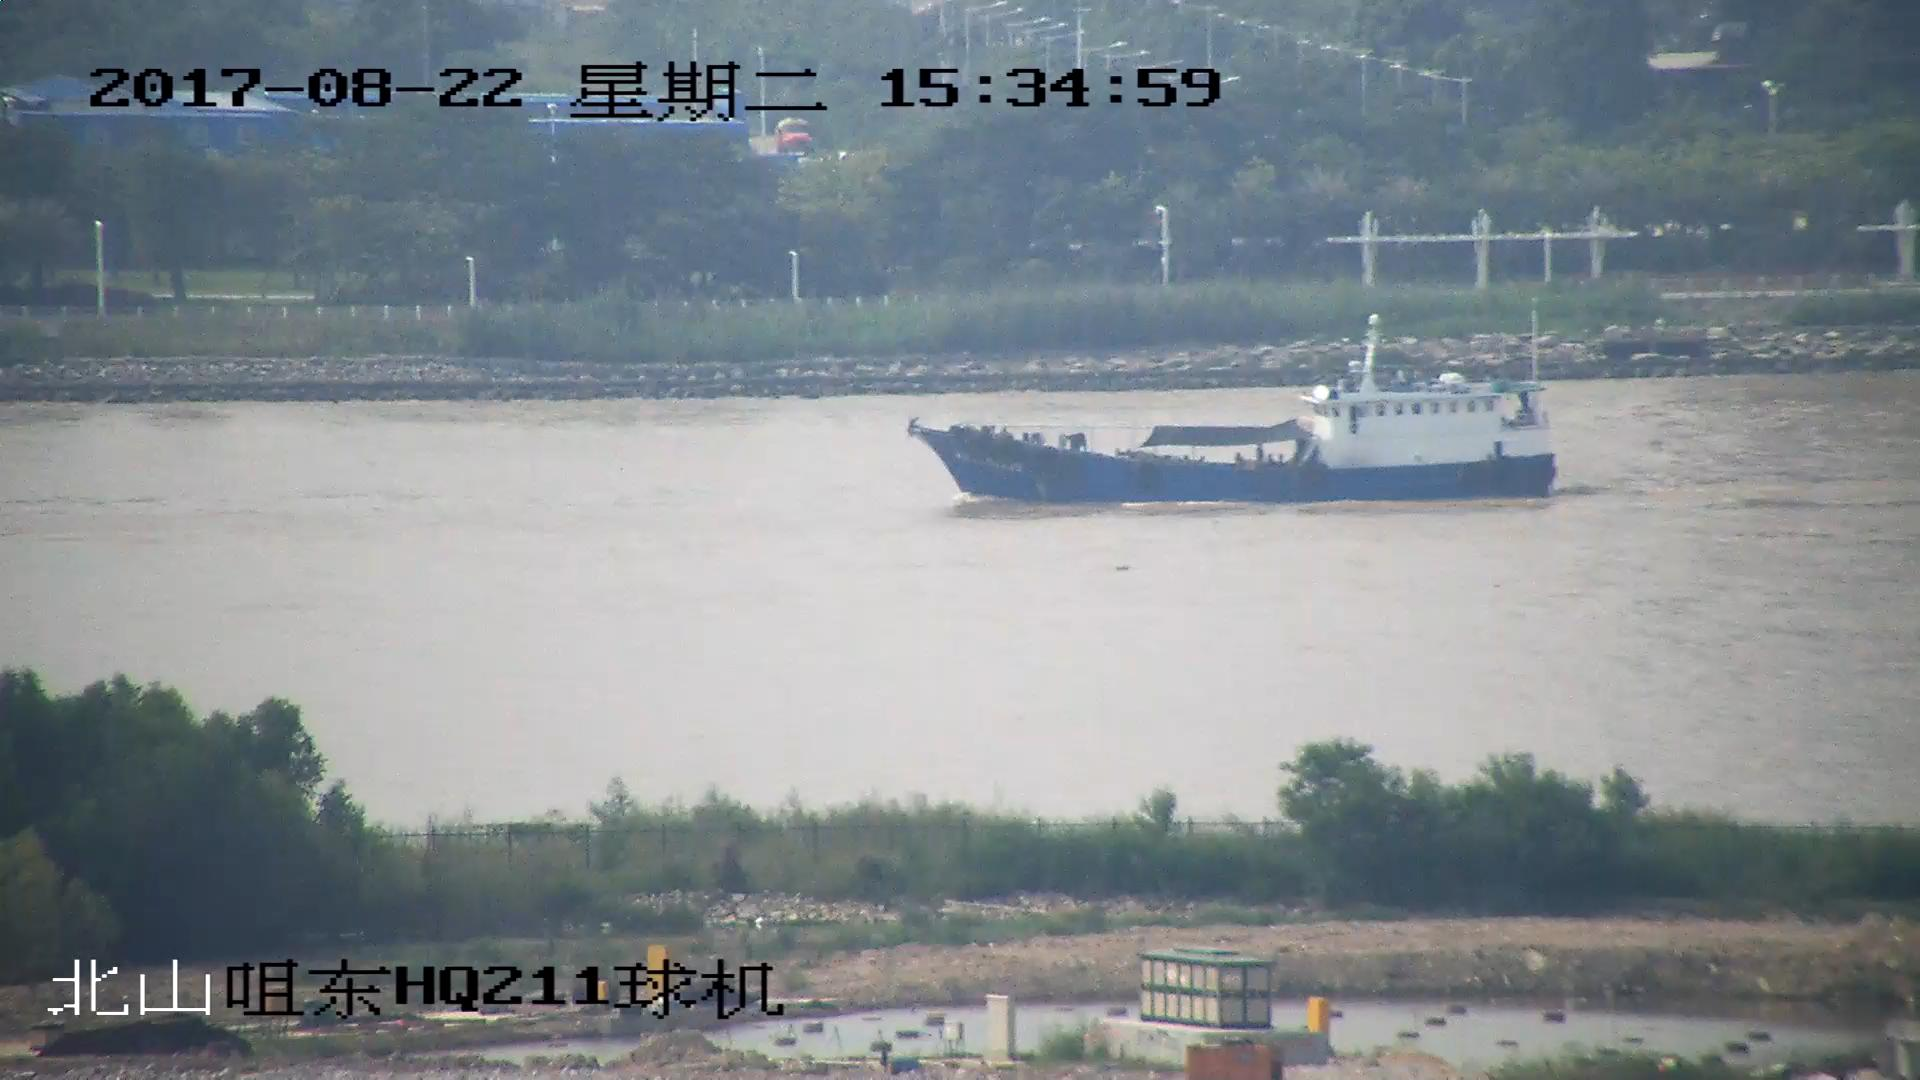fishing boat: (921, 319, 1561, 508)
